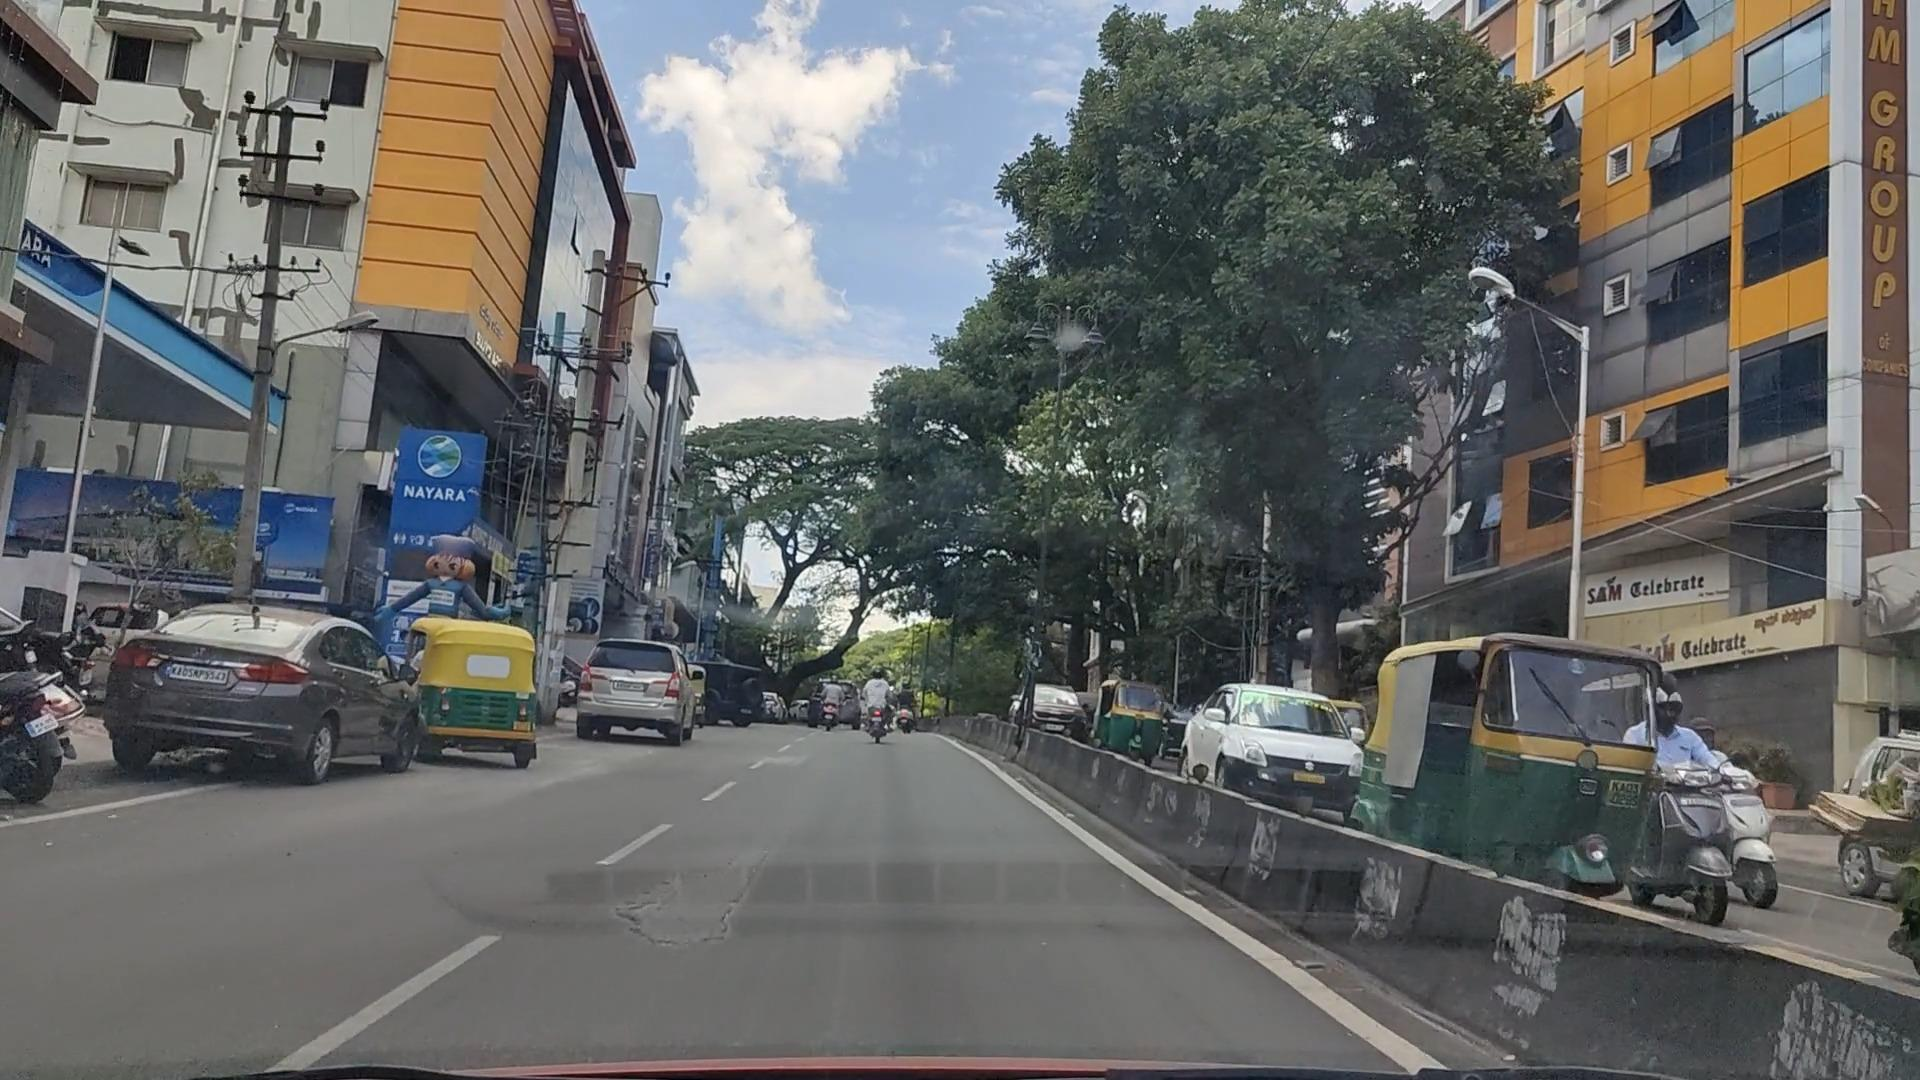LMV: (116, 585, 417, 793), (400, 633, 543, 757)
